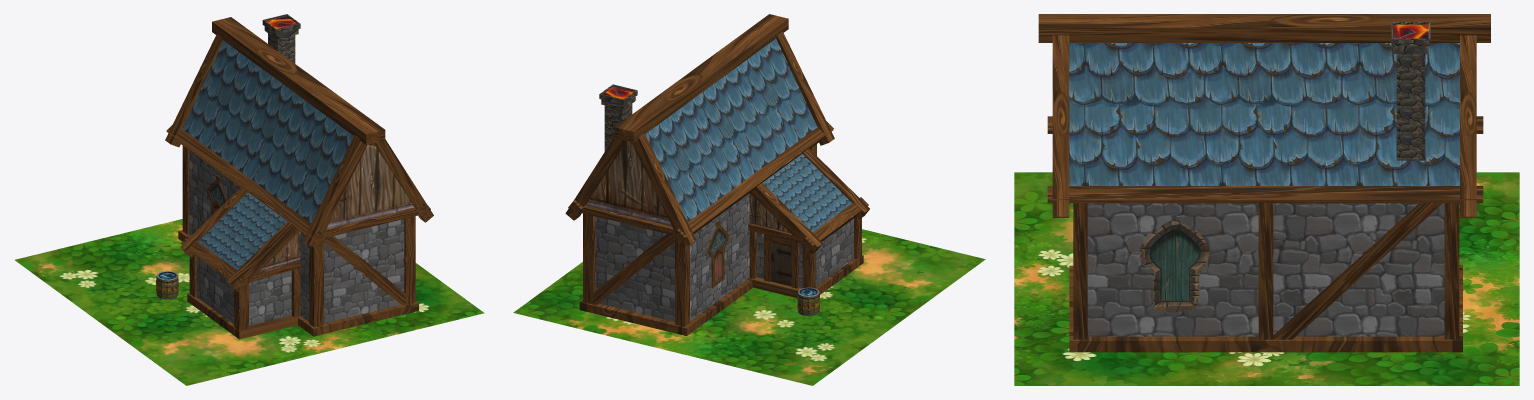
File: House.fbx
3 renders of one model, left to right at view 1: azimuth 30°, elevation 25°; view 2: azimuth 150°, elevation 25°; view 3: azimuth 270°, elevation 25°, orthographic. The views are drawn at different scales.
Parts seen in each view (by area): view 1: pPlane10, pCube9, pCube3, pCube32, pCube8, pCube2, pCube56, pCube26, pCube30, pCube17, pCube27, pCube36 (+12 smaller); view 2: pPlane10, pCube9, pCube3, pCube32, pCube8, pCube56, pCube26, pCube2, pCube27, pCube16, pCube30, pCube39 (+13 smaller); view 3: pCube9, pCube3, pPlane10, pCube32, pCube25, pCube56, pPlane8, pCube42, pCube31, pCube11, pCube28, pCube40 (+4 smaller).
Part boxes in pixels (x1,y1,x2,y2): pPlane10: (15, 219, 484, 385); pCube9: (182, 40, 413, 229); pCube3: (189, 150, 404, 323); pCube32: (212, 17, 385, 144); pCube8: (198, 192, 300, 272); pCube2: (197, 257, 291, 325); pCube56: (178, 230, 418, 339); pCube26: (166, 125, 327, 245); pCube30: (303, 135, 366, 248); pCube17: (227, 221, 299, 291); pCube27: (165, 34, 223, 147); pCube36: (309, 242, 323, 327); pPlane10: (513, 229, 985, 385); pCube9: (586, 38, 817, 226); pCube3: (595, 193, 749, 321); pCube32: (614, 14, 788, 142); pCube8: (749, 153, 851, 233); pCube56: (579, 255, 863, 335); pCube26: (672, 121, 833, 243); pCube2: (757, 218, 853, 288); pCube27: (631, 133, 696, 246); pCube16: (750, 183, 822, 253); pCube30: (776, 31, 834, 145); pCube39: (675, 240, 689, 326); pCube9: (1069, 43, 1459, 185); pCube3: (1087, 203, 1444, 336); pPlane10: (1014, 172, 1519, 385); pCube32: (1038, 14, 1490, 42); pCube25: (1047, 186, 1483, 203); pCube56: (1069, 264, 1462, 352); pPlane8: (1139, 220, 1209, 312); pCube42: (1273, 203, 1442, 339); pCube31: (1052, 35, 1069, 217); pCube11: (1396, 54, 1425, 160); pCube28: (1460, 35, 1476, 217); pCube40: (1258, 203, 1273, 339).
Bounding box in the file's own units: 27.67 × 18.79 × 27.67.
